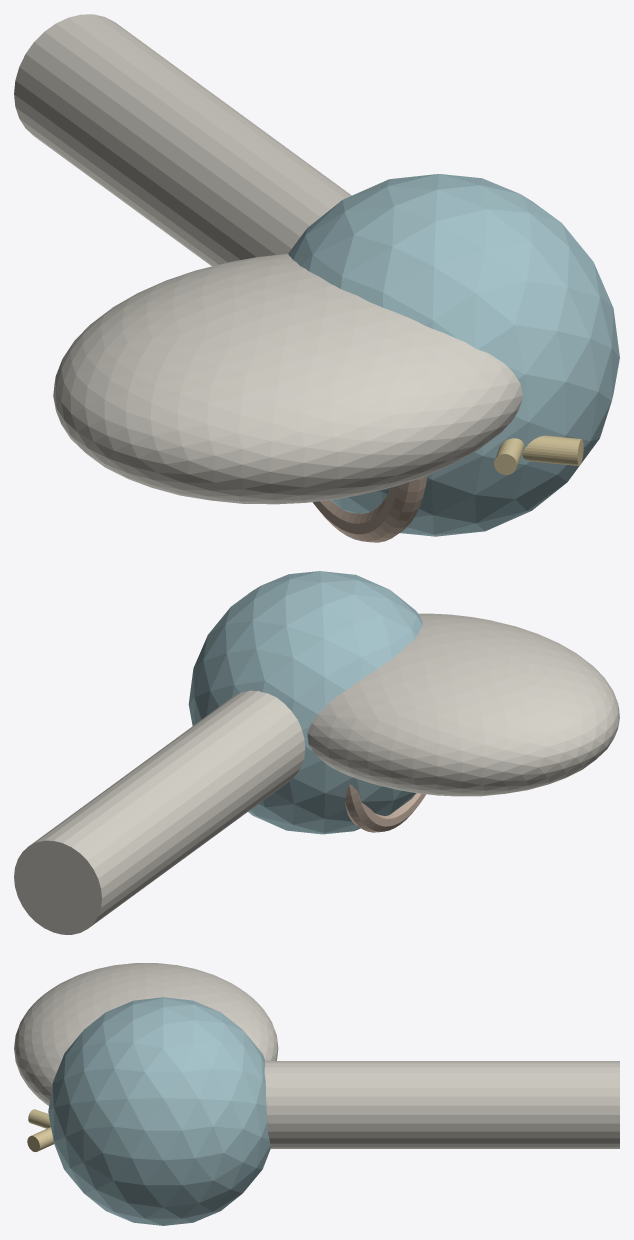
File: shoulder-high.glb
3 views of the same model, one above another, from view 1: azimuth 30°, elevation 25°; view 2: azimuth 150°, elevation 25°; view 3: azimuth 270°, elevation 25° (orthographic). The views are drawn at different scales.
Visible parts, largest first — view 1: scapula_proxy, shoulder_cartilage_proxy, humerus, glenoid_labrum_proxy, shoulder_ligament_proxy, biceps_tendon_proxy; view 2: scapula_proxy, humerus, shoulder_cartilage_proxy, glenoid_labrum_proxy; view 3: shoulder_cartilage_proxy, humerus, scapula_proxy, shoulder_ligament_proxy.
Part boxes in pixels (x1=…): scapula_proxy: x1=53, y1=253, x2=522, y2=504; shoulder_cartilage_proxy: x1=288, y1=174, x2=619, y2=536; humerus: x1=14, y1=14, x2=351, y2=266; glenoid_labrum_proxy: x1=312, y1=475, x2=427, y2=542; shoulder_ligament_proxy: x1=522, y1=435, x2=583, y2=465; biceps_tendon_proxy: x1=494, y1=438, x2=524, y2=474; scapula_proxy: x1=307, y1=613, x2=619, y2=796; humerus: x1=14, y1=690, x2=305, y2=934; shoulder_cartilage_proxy: x1=188, y1=571, x2=422, y2=834; glenoid_labrum_proxy: x1=345, y1=784, x2=425, y2=832; shoulder_cartilage_proxy: x1=48, y1=997, x2=270, y2=1225; humerus: x1=264, y1=1061, x2=619, y2=1148; scapula_proxy: x1=14, y1=963, x2=278, y2=1105; shoulder_ligament_proxy: x1=27, y1=1127, x2=54, y2=1151.
Size of the model in its own units: 1.58 by 0.94 by 2.48.
